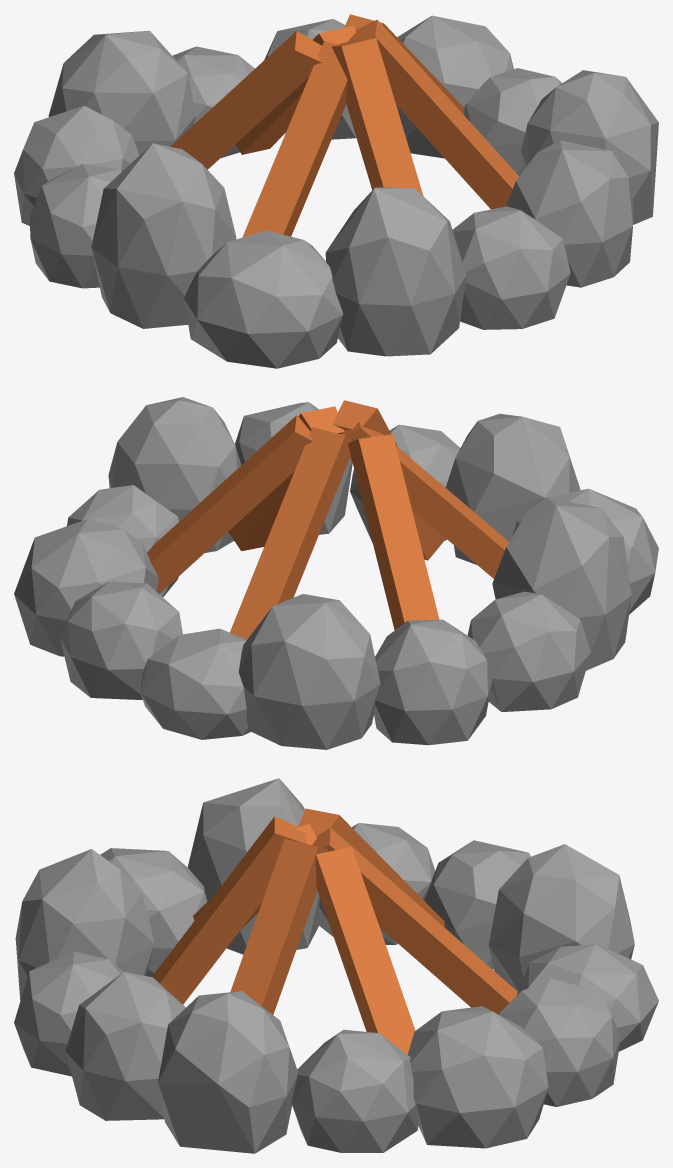
The model's file is Fire Pit 1.glb.
3 renders of one model, top to bottom at view 1: azimuth 30°, elevation 25°; view 2: azimuth 150°, elevation 25°; view 3: azimuth 270°, elevation 25°, orthographic. The views are drawn at different scales.
Parts seen in each view (by area): view 1: FirePit2; view 2: FirePit2; view 3: FirePit2.
Part boxes in pixels (x1=…): FirePit2: x1=14, y1=14, x2=658, y2=368; FirePit2: x1=14, y1=397, x2=658, y2=749; FirePit2: x1=14, y1=778, x2=658, y2=1153.
Bounding box in the file's own units: 0.9809 × 0.3772 × 0.9985.
